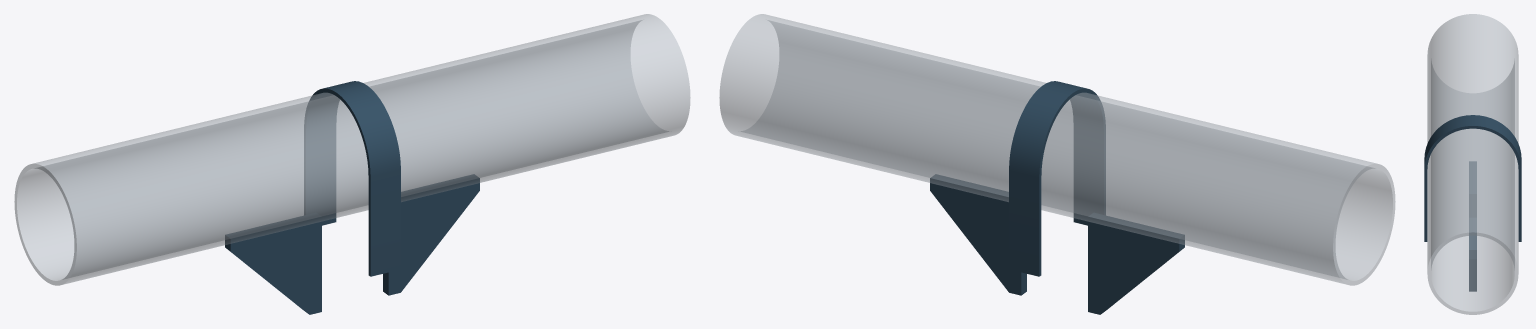
Rendered from TS-659.00.00-05-opora-dn89.glb.
3 views of the same model, side by side, from view 1: azimuth 30°, elevation 25°; view 2: azimuth 150°, elevation 25°; view 3: azimuth 270°, elevation 25° (orthographic). The views are drawn at different scales.
Parts seen in each view (by area): view 1: truba, homut, upor_2, upor_1; view 2: truba, homut, upor_2, upor_1; view 3: truba, homut, upor_1, upor_2.
Boxes of the visible parts, x1,y1,x2,y2 form: truba: (14, 14, 690, 285); homut: (304, 81, 400, 276); upor_2: (225, 213, 321, 314); upor_1: (383, 174, 479, 295); truba: (719, 14, 1395, 285); homut: (1009, 81, 1105, 276); upor_2: (1088, 213, 1184, 314); upor_1: (930, 174, 1026, 295); truba: (1427, 14, 1518, 314); homut: (1424, 115, 1521, 241); upor_1: (1469, 218, 1476, 291); upor_2: (1469, 161, 1476, 217).
Bounding box in the file's own units: 505 × 167 × 95.
